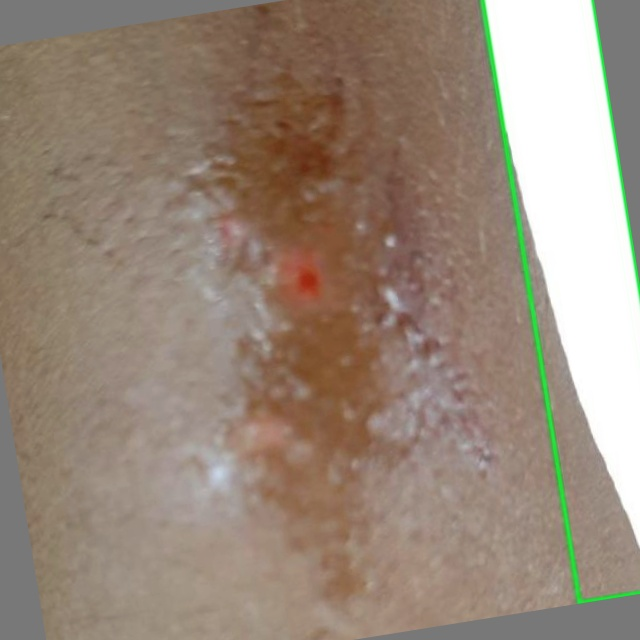Tinea Corporis: (482, 0, 639, 602)
